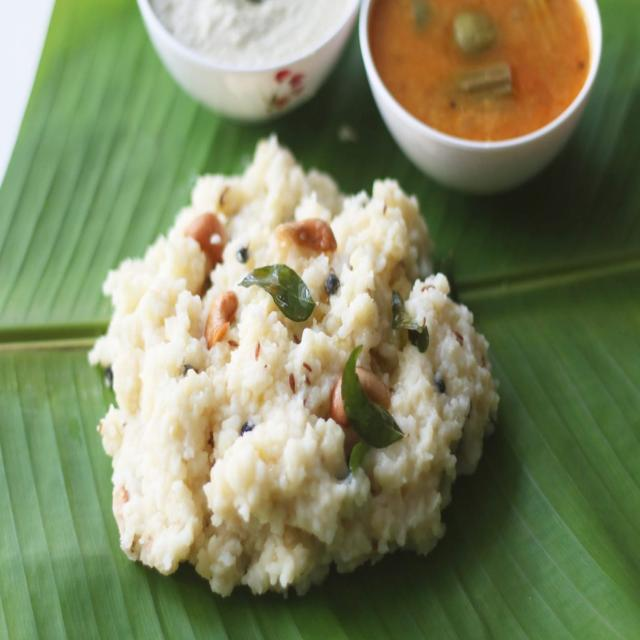khara pongal: (80, 120, 508, 623)
